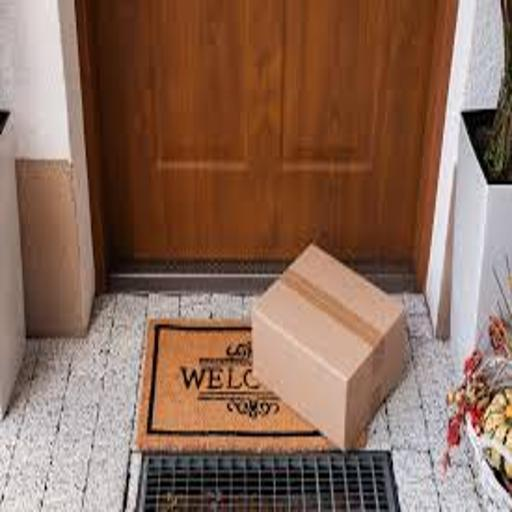Other: (238, 242, 420, 449)
